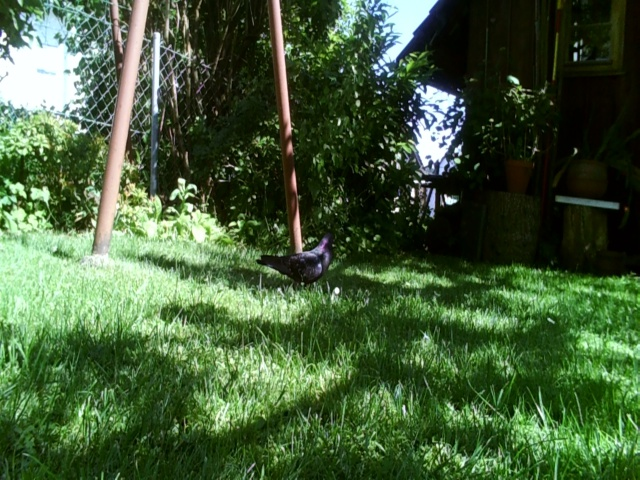Pigeon: (249, 227, 342, 282)
